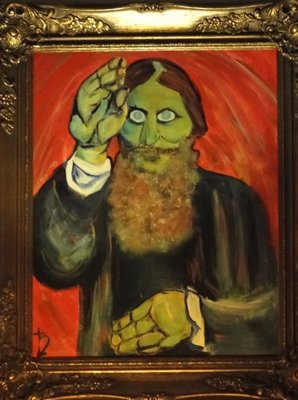pizza: (32, 60, 290, 397)
